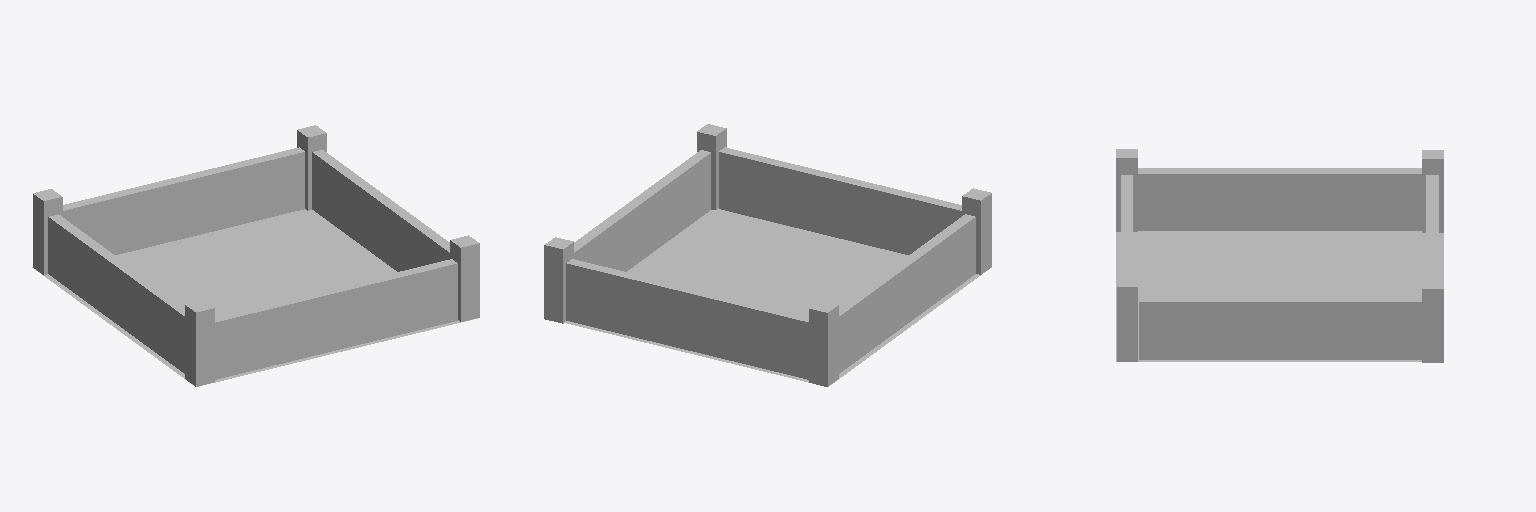
File: map.obj
3 views of the same model, side by side, from view 1: azimuth 30°, elevation 25°; view 2: azimuth 150°, elevation 25°; view 3: azimuth 270°, elevation 25° (orthographic).
Parts seen in each view (by area): view 1: Plane, Cube.007_Cube.006, Cube.006_Cube.005, Cube.004_Cube, Cube.005_Cube.004, Cube.002, Cube.003, Cube.001_Cube.000, Cube_Cube.001; view 2: Plane, Cube.006_Cube.005, Cube.007_Cube.006, Cube.004_Cube, Cube.005_Cube.004, Cube.001_Cube.000, Cube_Cube.001, Cube.002, Cube.003; view 3: Plane, Cube.004_Cube, Cube.005_Cube.004, Cube_Cube.001, Cube.003, Cube.006_Cube.005, Cube.007_Cube.006, Cube.002, Cube.001_Cube.000.
Part boxes in pixels (x1,y1,x2,y2): Plane: (32,209,477,386); Cube.007_Cube.006: (215,259,457,379); Cube.006_Cube.005: (63,147,304,254); Cube.004_Cube: (48,214,184,373); Cube.005_Cube.004: (312,150,449,271); Cube.002: (185,300,214,386); Cube.003: (450,235,479,321); Cube.001_Cube.000: (33,189,62,274); Cube_Cube.001: (297,125,326,210); Plane: (564,208,991,384); Cube.006_Cube.005: (566,259,808,379); Cube.007_Cube.006: (719,147,961,254); Cube.004_Cube: (839,214,975,373); Cube.005_Cube.004: (574,150,710,271); Cube.001_Cube.000: (809,301,838,386); Cube_Cube.001: (544,237,573,323); Cube.002: (962,188,991,274); Cube.003: (697,124,726,209); Plane: (1116,231,1443,361); Cube.004_Cube: (1138,168,1421,230); Cube.005_Cube.004: (1139,297,1421,359); Cube_Cube.001: (1422,280,1443,362); Cube.003: (1117,278,1137,361); Cube.006_Cube.005: (1426,175,1438,279); Cube.007_Cube.006: (1121,175,1132,277); Cube.002: (1116,149,1137,231); Cube.001_Cube.000: (1422,150,1443,232).
Bounding box in the file's own units: 30.08 × 7.67 × 30.05.